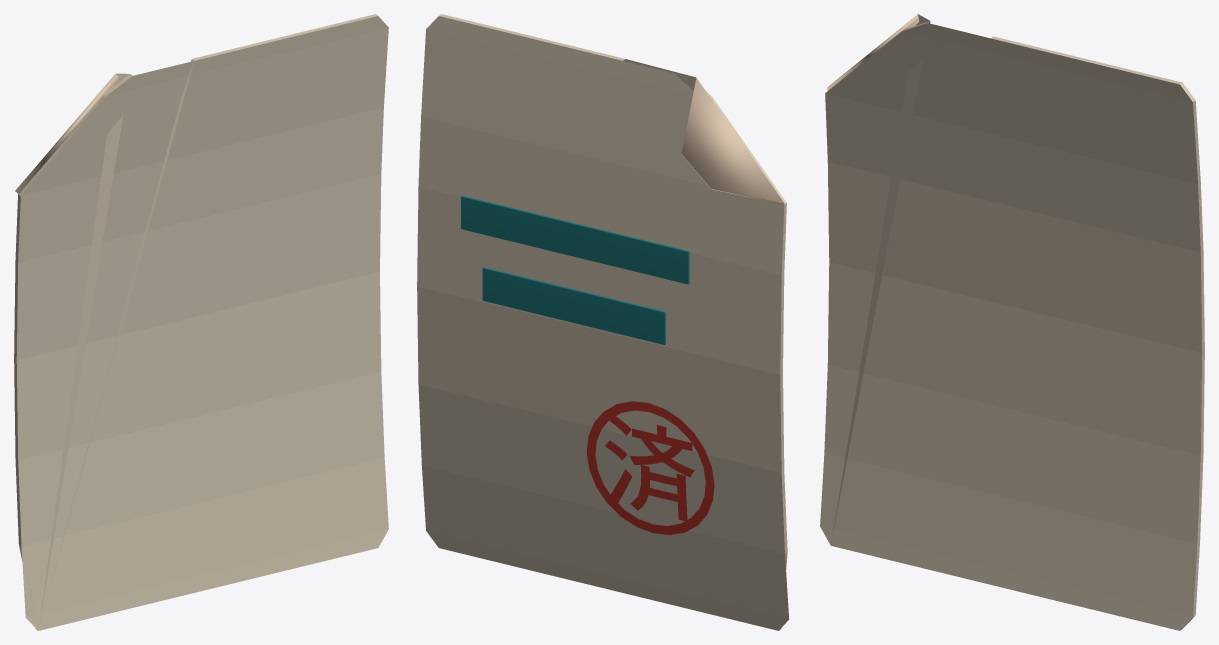
The model's file is fx_paper.glb.
3 renders of one model, left to right at view 1: azimuth 30°, elevation 25°; view 2: azimuth 150°, elevation 25°; view 3: azimuth 330°, elevation 25°, orthographic. The views are drawn at different scales.
Parts seen in each view (by area): view 1: FXPaper_Geometry; view 2: FXPaper_Geometry; view 3: FXPaper_Geometry.
Part boxes in pixels (x1,y1,x2,y2): FXPaper_Geometry: (14,14,388,630); FXPaper_Geometry: (417,14,789,630); FXPaper_Geometry: (820,14,1204,630).
Size of the model in its own units: 0.2512 by 0.3517 by 0.0337.
